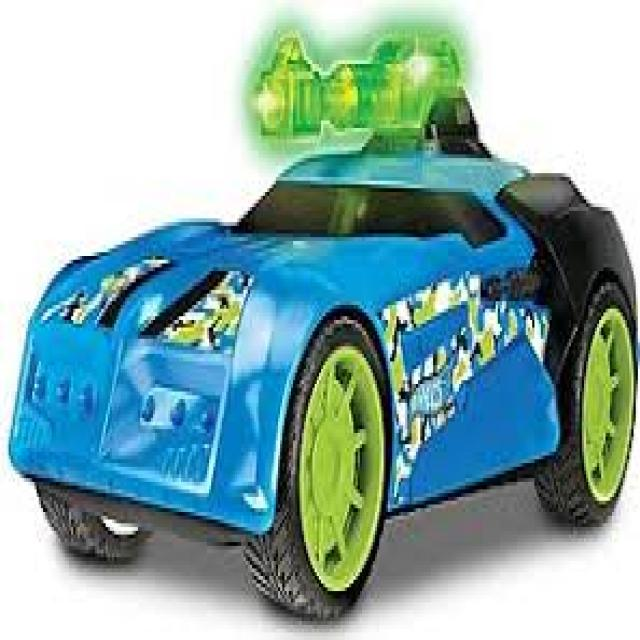Car: (7, 26, 636, 622)
